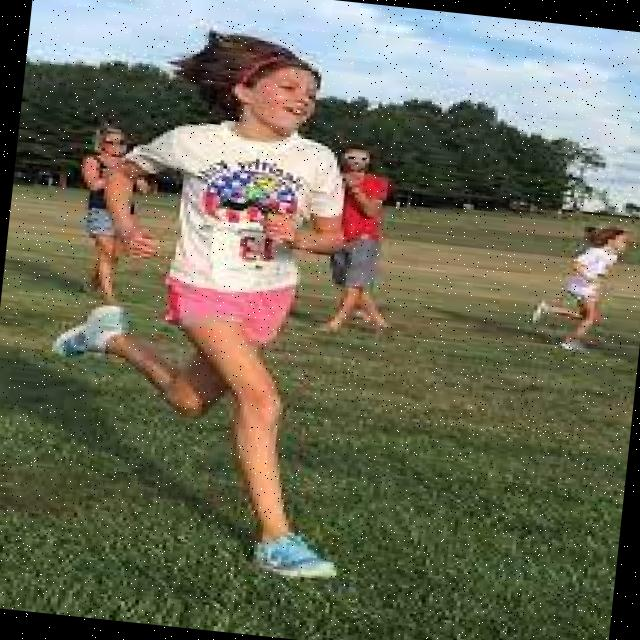Person: (31, 18, 394, 583), (318, 145, 410, 335), (66, 122, 154, 302), (526, 219, 628, 355)
